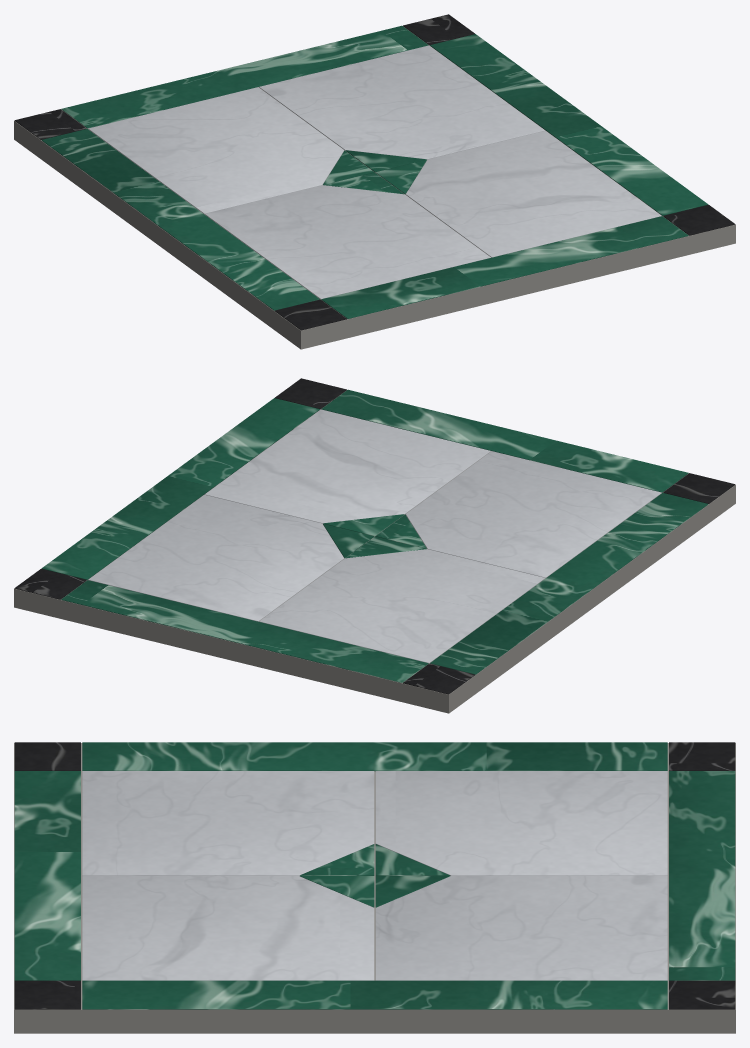
File: floor_KA-DB013.glb
3 views of the same model, one above another, from view 1: azimuth 30°, elevation 25°; view 2: azimuth 150°, elevation 25°; view 3: azimuth 270°, elevation 25° (orthographic). The views are drawn at different scales.
Visible parts, largest first — view 1: Floor; view 2: Floor; view 3: Floor.
Part boxes in pixels (x1,y1,x2,y2): Floor: [14, 14, 735, 349]; Floor: [14, 378, 735, 713]; Floor: [14, 742, 735, 1033].
Bounding box in the file's own units: 1.4 × 0.06 × 1.6.
4 materials, 3 textured.
